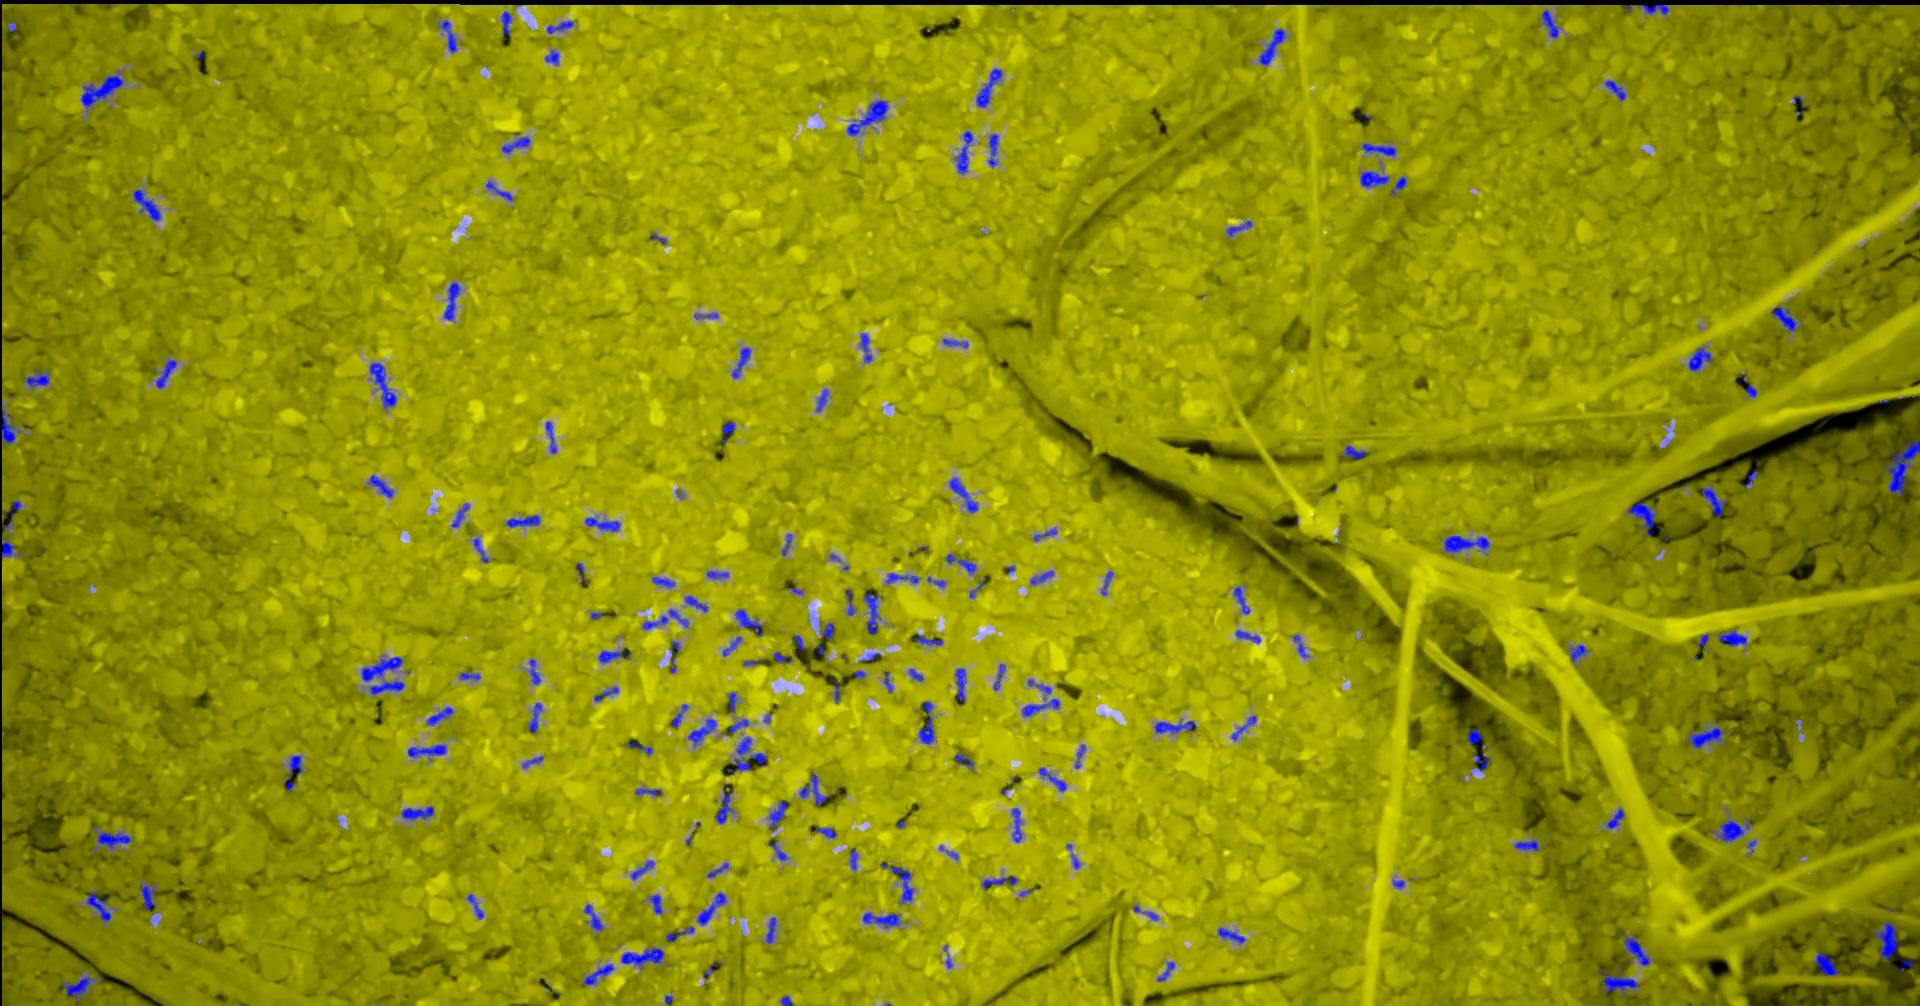ant: (1884, 438, 1919, 495), (846, 99, 888, 135), (80, 75, 123, 107), (729, 735, 766, 772), (880, 862, 913, 903), (368, 362, 396, 408), (361, 655, 403, 681), (1625, 500, 1655, 536), (1603, 965, 1638, 995), (975, 69, 1002, 107), (696, 892, 726, 925), (1258, 28, 1285, 65), (1872, 921, 1898, 958), (949, 478, 977, 512), (1688, 721, 1723, 748), (799, 772, 827, 805), (132, 189, 160, 221), (621, 948, 663, 968), (1710, 819, 1750, 841), (1623, 934, 1650, 965), (1443, 535, 1490, 553), (687, 718, 716, 746), (61, 976, 94, 1000), (734, 608, 762, 636), (0, 408, 20, 445), (86, 890, 110, 921), (955, 130, 971, 174), (863, 591, 880, 634), (714, 786, 733, 823), (1021, 699, 1059, 716), (97, 829, 132, 848), (1037, 767, 1065, 791), (1702, 486, 1724, 516), (918, 701, 933, 744), (583, 963, 613, 984), (443, 281, 460, 320), (1771, 306, 1797, 332), (1230, 715, 1256, 741), (284, 754, 302, 790), (945, 553, 975, 573), (731, 347, 750, 379), (155, 359, 177, 387), (438, 19, 456, 52), (1688, 345, 1710, 371), (367, 474, 392, 497), (3, 500, 22, 531), (768, 800, 789, 828), (862, 912, 899, 927), (1815, 951, 1837, 976), (368, 678, 404, 694), (1154, 720, 1196, 733), (1717, 629, 1746, 647), (485, 180, 512, 199), (502, 135, 530, 152), (584, 517, 620, 531), (425, 706, 453, 724), (982, 875, 1017, 889), (1625, 3, 1669, 14), (408, 744, 446, 757), (1604, 79, 1625, 100), (1359, 171, 1389, 187), (1542, 9, 1558, 37), (1233, 586, 1250, 614), (1217, 927, 1244, 944), (630, 860, 654, 879), (583, 904, 602, 929), (451, 502, 469, 527), (954, 667, 966, 702), (670, 702, 688, 728), (598, 648, 630, 662), (140, 883, 156, 909), (1361, 144, 1396, 156), (24, 370, 48, 387), (665, 926, 693, 941), (505, 514, 538, 527), (400, 807, 433, 819), (466, 893, 483, 918), (527, 702, 541, 732), (1225, 220, 1251, 235), (668, 608, 688, 627), (0, 539, 22, 556), (1465, 728, 1483, 749), (987, 133, 998, 166), (545, 420, 556, 453), (684, 594, 707, 611), (1291, 634, 1308, 657), (858, 333, 871, 362), (472, 537, 488, 561), (594, 686, 618, 701), (723, 636, 742, 655), (770, 841, 789, 860), (1011, 807, 1021, 842), (914, 633, 942, 645), (546, 20, 573, 33), (1157, 962, 1175, 981), (643, 615, 667, 629), (1027, 680, 1051, 694), (627, 741, 651, 754), (885, 573, 918, 583), (1606, 808, 1623, 828), (706, 862, 728, 878), (669, 641, 679, 673), (992, 663, 1004, 688), (1343, 445, 1366, 459), (1030, 570, 1053, 584), (1472, 752, 1490, 770), (1570, 644, 1589, 661), (728, 718, 748, 733), (1100, 570, 1112, 594), (1236, 629, 1260, 641), (809, 827, 836, 838), (1390, 177, 1406, 196), (815, 389, 828, 412), (528, 658, 540, 683), (648, 894, 662, 915), (1032, 528, 1057, 540), (651, 575, 674, 587), (500, 10, 510, 36), (844, 589, 855, 615), (1074, 743, 1084, 768), (952, 753, 973, 766), (764, 917, 775, 942), (781, 533, 792, 555), (1514, 840, 1538, 850), (942, 338, 968, 347), (543, 50, 557, 65), (822, 622, 834, 639), (635, 788, 662, 795), (721, 420, 735, 434), (908, 668, 923, 681), (458, 671, 480, 680), (773, 652, 791, 662), (728, 691, 737, 711), (1743, 384, 1756, 398), (706, 570, 728, 578), (850, 848, 857, 869)
